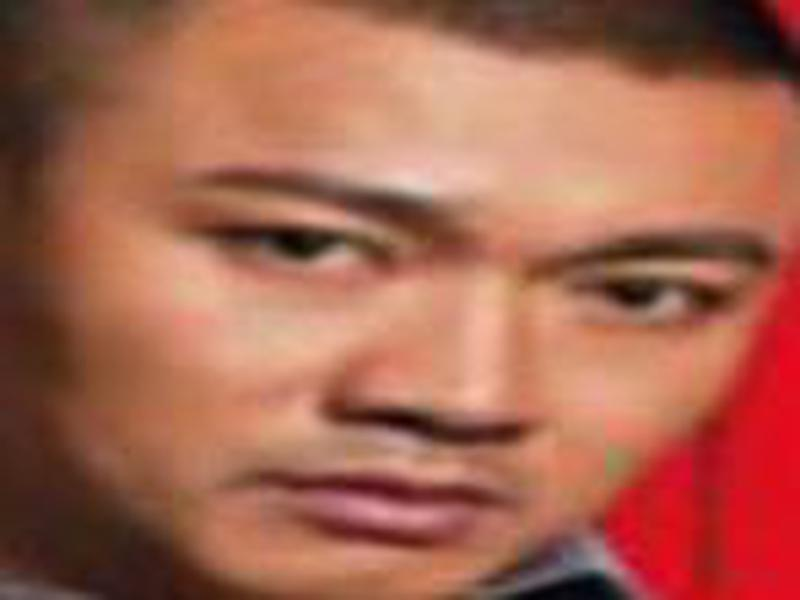without_mask: (46, 27, 789, 600)
